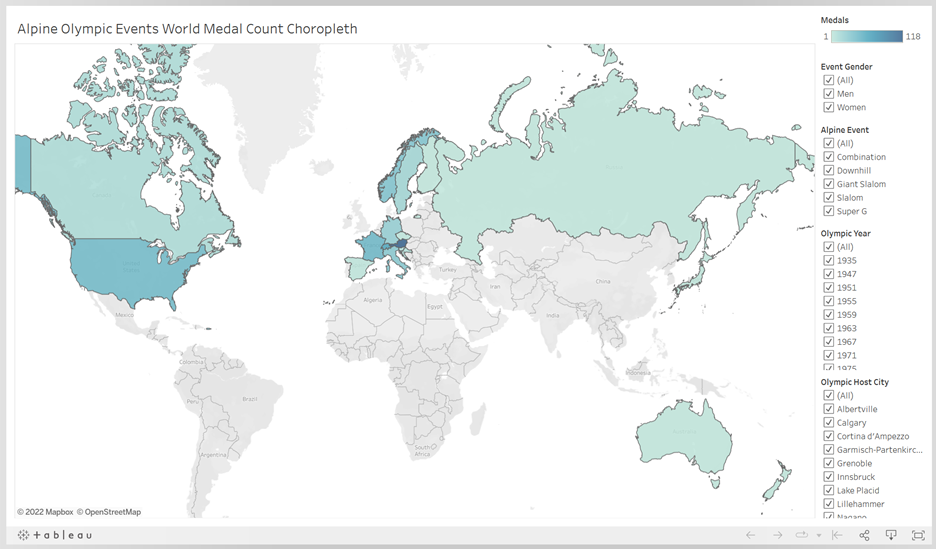

Layout of this report page (visuals, bound fields, positions):
{"tool":"tableau","page":{"name":"Dashboard 1","canvas":[1000,1000],"units":"permille","ordinal":0},"visuals":[{"type":"worksheet","title":"Sheet 1","mark":"Automatic","box":[2.1,4.2,888.5,991.5]},{"type":"filter","title":"Sheet 1","param":"[federated.146amrn0jlxjl911misc91clc58j].[none:Medal:ok]","box":[890.6,4.2,107.3,47.2]},{"type":"filter","title":"Sheet 1","param":"[federated.146amrn0jlxjl911misc91clc58j].[none:USOC Master Competition Set Name:","box":[890.6,51.4,107.3,150.1]},{"type":"legend","title":"Sheet 1","param":"[federated.146amrn0jlxjl911misc91clc58j].[cnt:Medal:qk]","box":[890.6,201.5,107.3,43]},{"type":"filter","title":"Sheet 1","param":"[federated.146amrn0jlxjl911misc91clc58j].[none:Event Gender:nk]","box":[890.6,244.4,107.3,64.2]},{"type":"filter","title":"Sheet 1","param":"[federated.146amrn0jlxjl911misc91clc58j].[none:Event Name Short:nk]","box":[890.6,308.6,107.3,121.4]}]}

Visuals, with their boxes on the dashboard's canvas, which has no fixed pixel size, in thousandths of its width and height (x1, y1, x2, y2). These are canvas units, not pixel positions in the 936x549 screenshot, which may show the page scaled, cropped or inside an application window:
"Sheet 1" worksheet: select_region(2, 4, 891, 996)
"Sheet 1" filter: select_region(891, 4, 998, 51)
"Sheet 1" filter: select_region(891, 51, 998, 202)
"Sheet 1" legend: select_region(891, 202, 998, 244)
"Sheet 1" filter: select_region(891, 244, 998, 309)
"Sheet 1" filter: select_region(891, 309, 998, 430)
